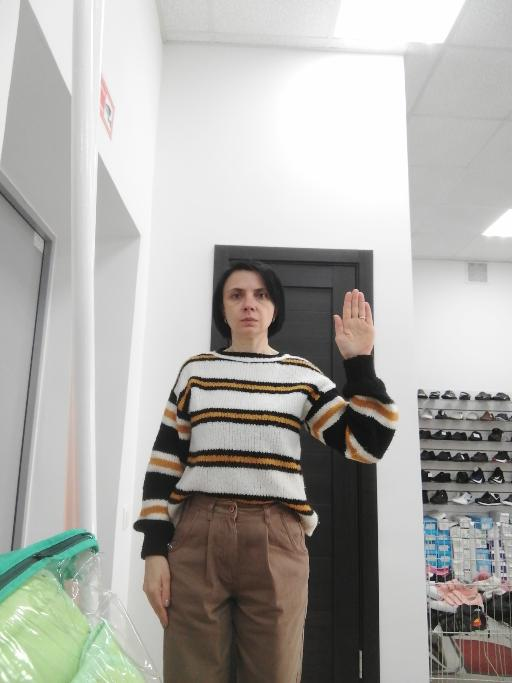no_gesture: (140, 553, 173, 629)
stop: (330, 287, 376, 361)
